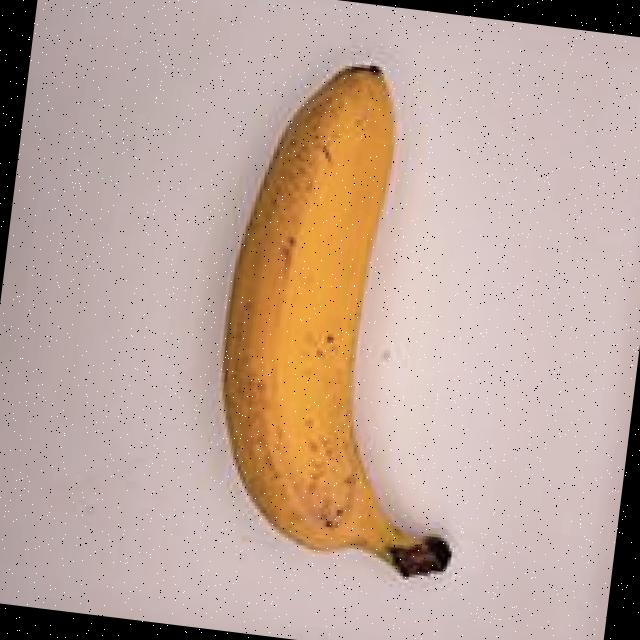Ripe: (180, 31, 525, 602)
